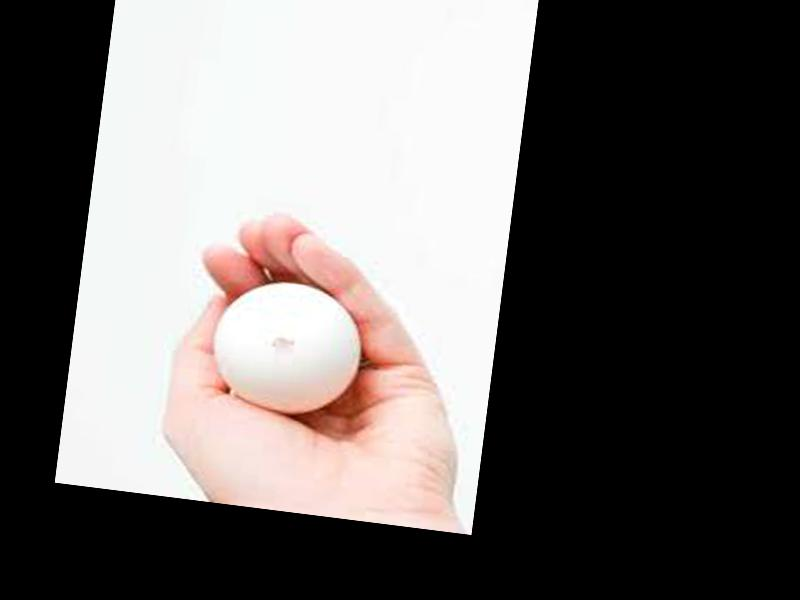Eggs: (210, 274, 365, 419)
